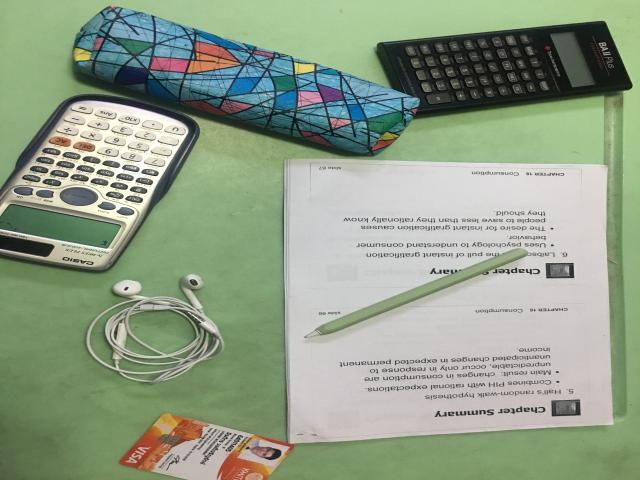paper: (285, 159, 612, 443)
wire: (87, 275, 225, 384)
